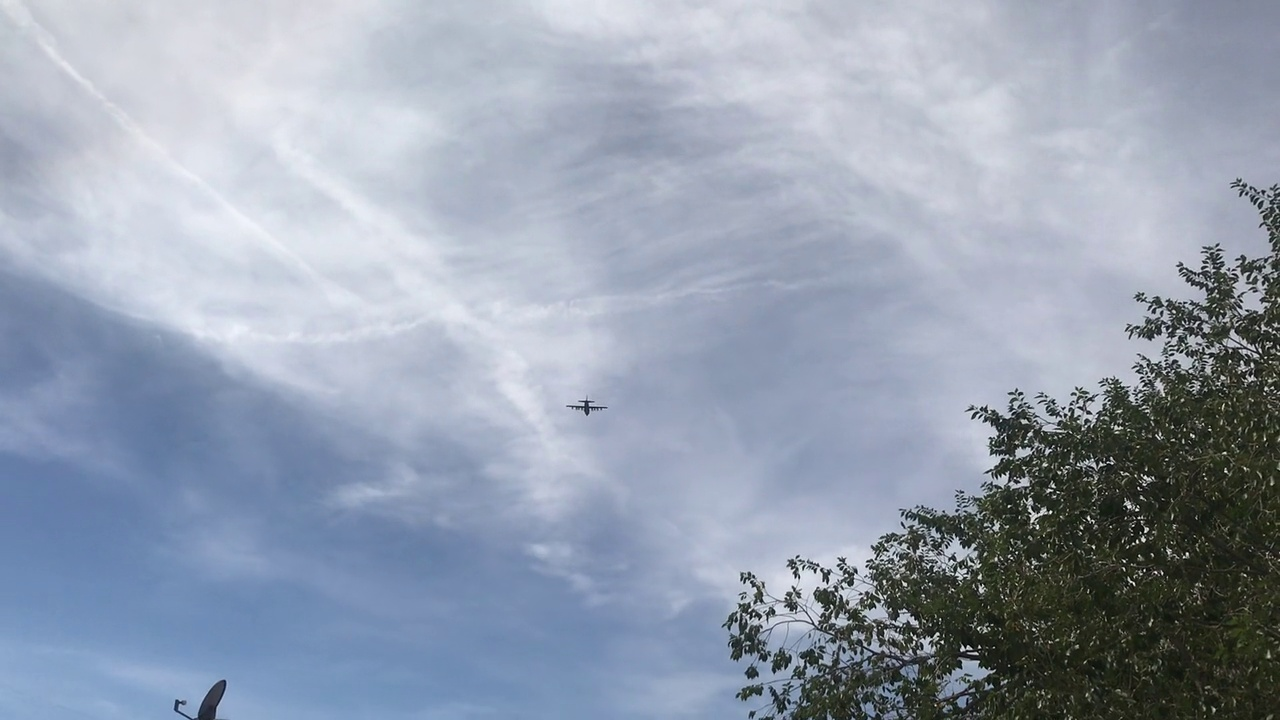plane: (566, 393, 606, 416)
